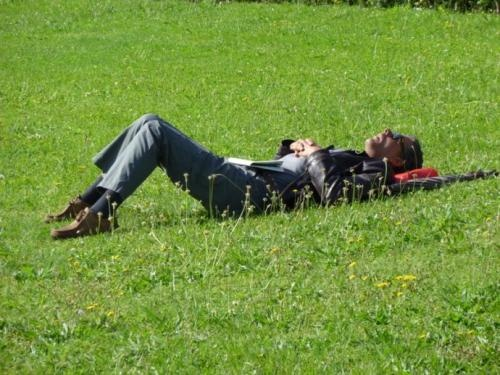falling: (51, 102, 434, 236)
